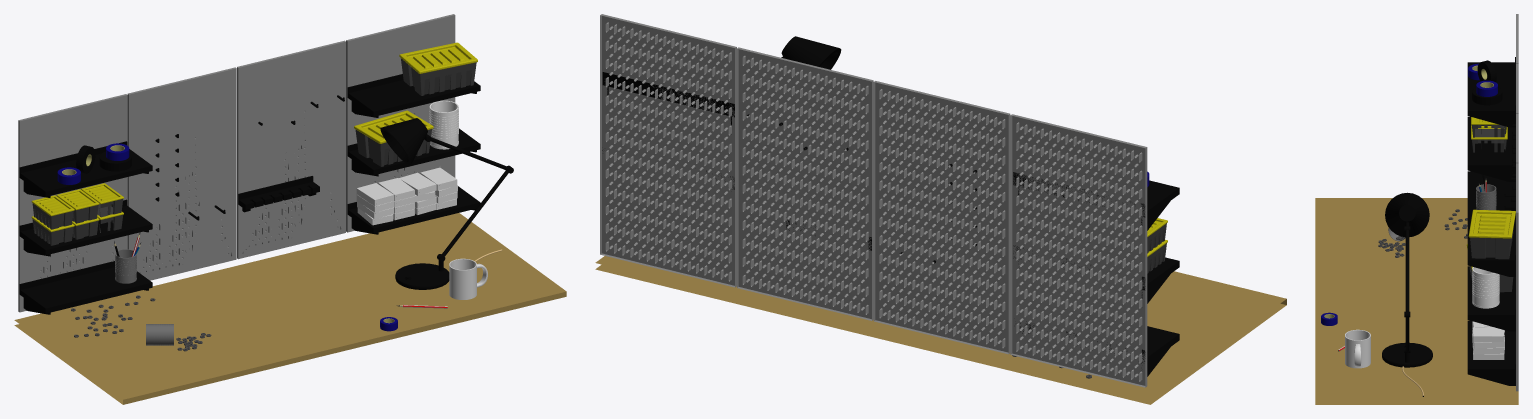
Rendered from Table_full 1.fbx.
3 renders of one model, left to right at view 1: azimuth 30°, elevation 25°; view 2: azimuth 150°, elevation 25°; view 3: azimuth 270°, elevation 25°, orthographic. The views are drawn at different scales.
Parts seen in each view (by area): view 1: Wall, Table, Boxes6, Mini_boxes, Lamp, Boxes1.001, Boxes1, Scotch4, Can3, Cup, Can2, Can1; view 2: Wall, Table, Lamp, Boxes6; view 3: Table, Wall, Lamp, Boxes1.001, Scotch4, Mini_boxes, Can3, Cup, Boxes6, Can1, Can2, Boxes1 (+1 smaller).
Boxes of the visible parts, x1=… form: Wall: x1=18, y1=14, x2=480, y2=314; Table: x1=14, y1=213, x2=566, y2=404; Boxes6: x1=31, y1=183, x2=123, y2=245; Mini_boxes: x1=356, y1=167, x2=457, y2=225; Lamp: x1=380, y1=118, x2=513, y2=289; Boxes1.001: x1=399, y1=42, x2=477, y2=95; Boxes1: x1=354, y1=110, x2=433, y2=166; Scotch4: x1=57, y1=143, x2=131, y2=184; Can3: x1=429, y1=100, x2=458, y2=149; Cup: x1=449, y1=258, x2=487, y2=299; Can2: x1=146, y1=324, x2=211, y2=351; Can1: x1=114, y1=232, x2=141, y2=283; Wall: x1=600, y1=14, x2=1179, y2=387; Table: x1=595, y1=256, x2=1286, y2=404; Lamp: x1=781, y1=36, x2=841, y2=69; Boxes6: x1=1147, y1=218, x2=1167, y2=273; Table: x1=1315, y1=198, x2=1518, y2=404; Wall: x1=1467, y1=14, x2=1518, y2=391; Lamp: x1=1382, y1=192, x2=1432, y2=396; Boxes1.001: x1=1468, y1=209, x2=1515, y2=259; Scotch4: x1=1468, y1=60, x2=1502, y2=105; Mini_boxes: x1=1472, y1=321, x2=1504, y2=359; Can3: x1=1472, y1=267, x2=1499, y2=308; Cup: x1=1345, y1=329, x2=1370, y2=368; Boxes6: x1=1471, y1=117, x2=1507, y2=152; Can1: x1=1476, y1=174, x2=1496, y2=210; Can2: x1=1378, y1=227, x2=1405, y2=257; Boxes1: x1=1466, y1=244, x2=1513, y2=292.
Size of the model in its own units: 2 by 0.8786 by 0.85.
